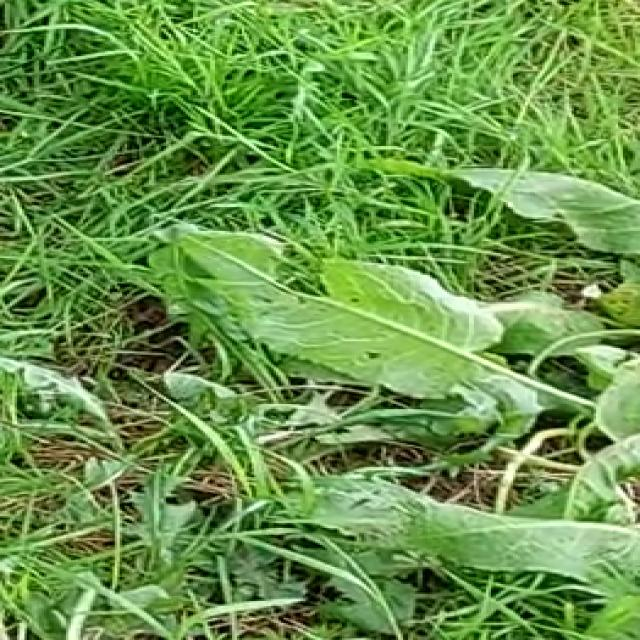organic waste: (156, 159, 639, 640)
